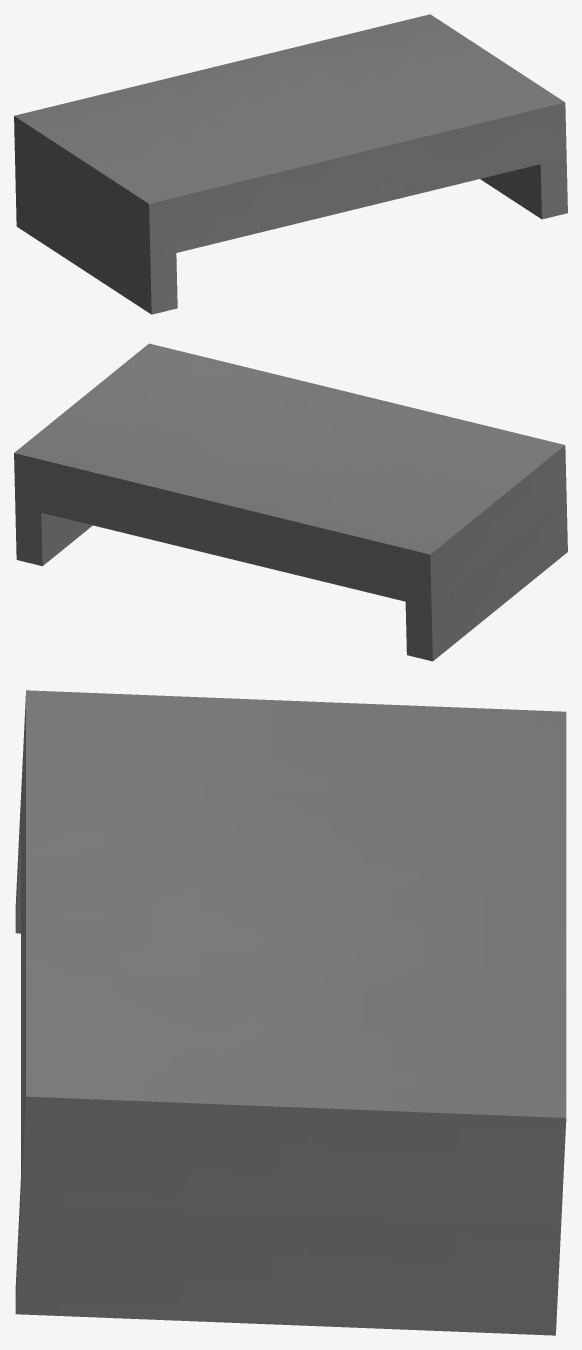
Rendered from dc_metro_arch_b12.obj.
3 renders of one model, top to bottom at view 1: azimuth 30°, elevation 25°; view 2: azimuth 150°, elevation 25°; view 3: azimuth 270°, elevation 25°, orthographic. The views are drawn at different scales.
Visible parts, largest first — view 1: part12; view 2: part12; view 3: part12.
Boxes of the visible parts, x1=… form: part12: x1=14, y1=14, x2=567, y2=314; part12: x1=14, y1=343, x2=567, y2=661; part12: x1=15, y1=690, x2=566, y2=1335.
Size of the model in its own units: 2 by 0.5486 by 1.15.
Materials: 2 (2 with a texture image).
